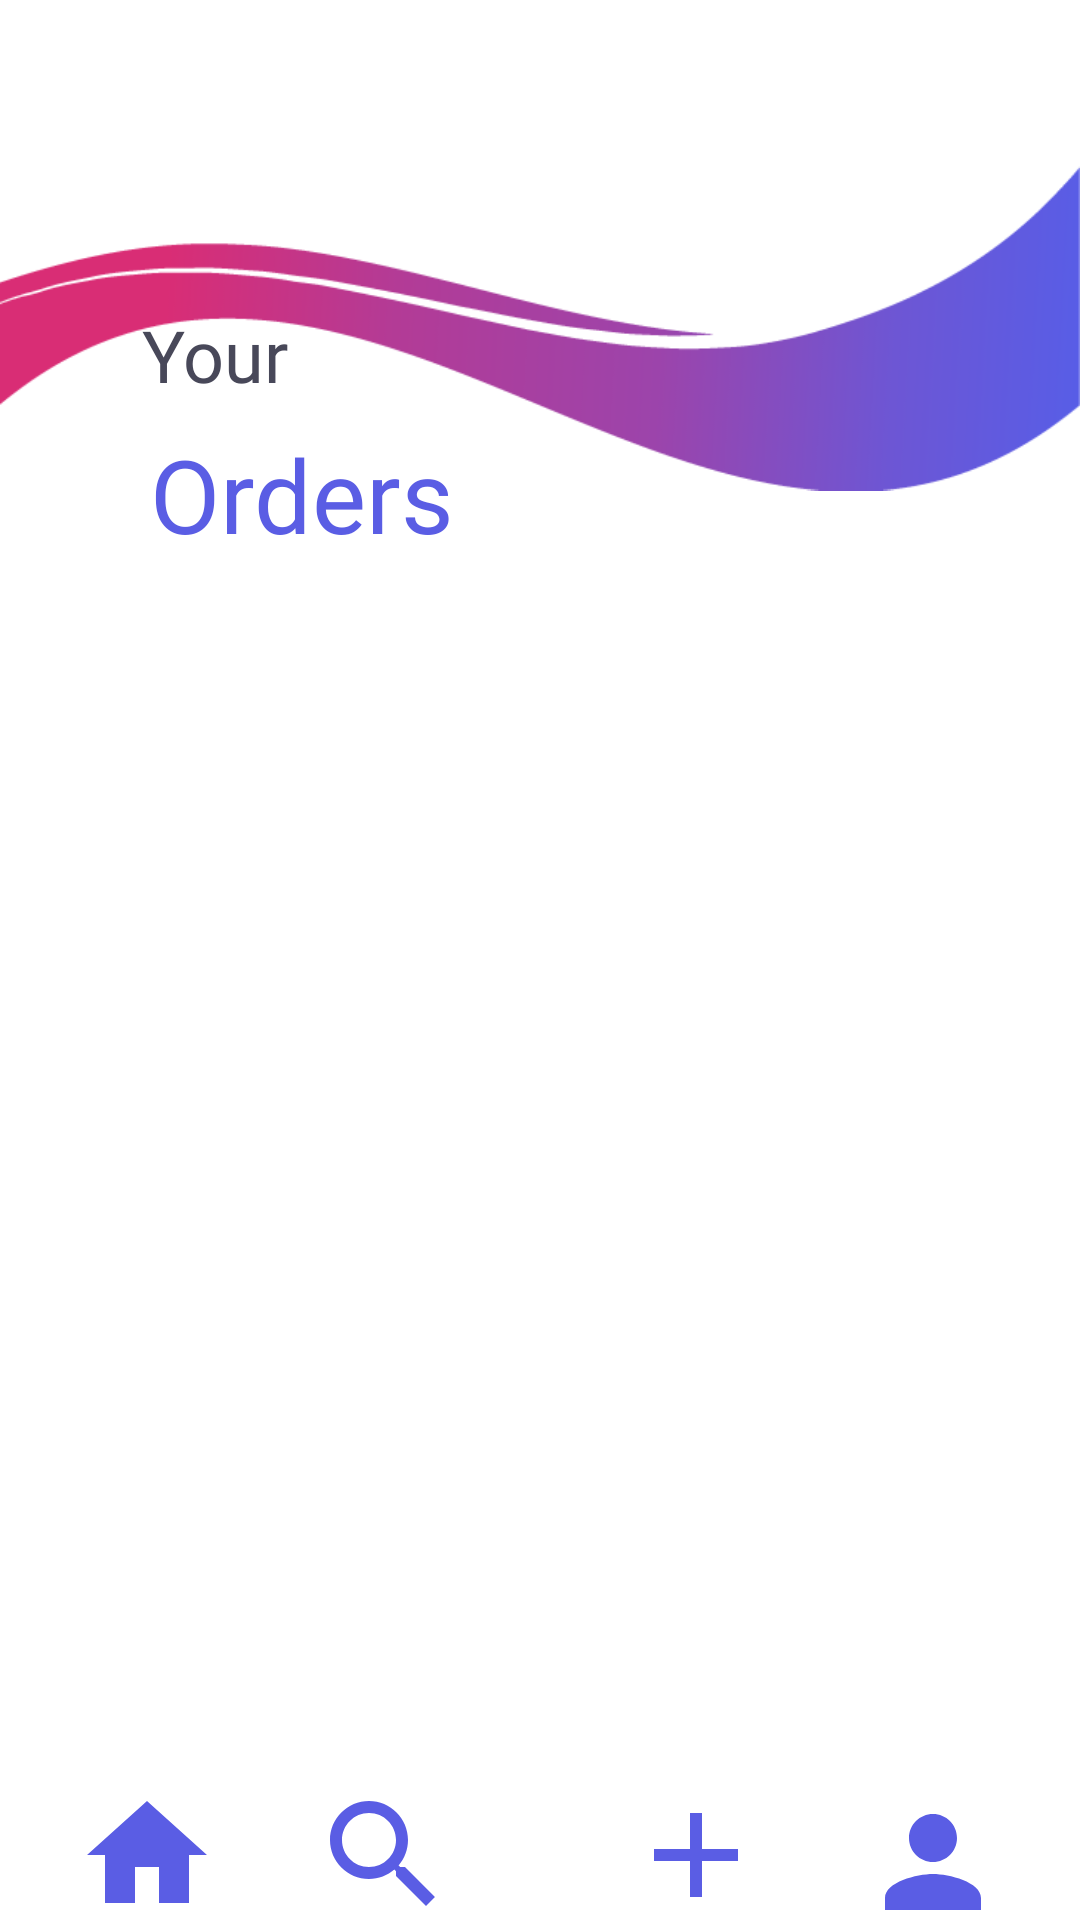

Icon click points for this 1080*1920 phone screenshot, format [x,y]:
home: [147,1852]
plus: [696,1855]
profile: [933,1862]
search: [382,1853]
